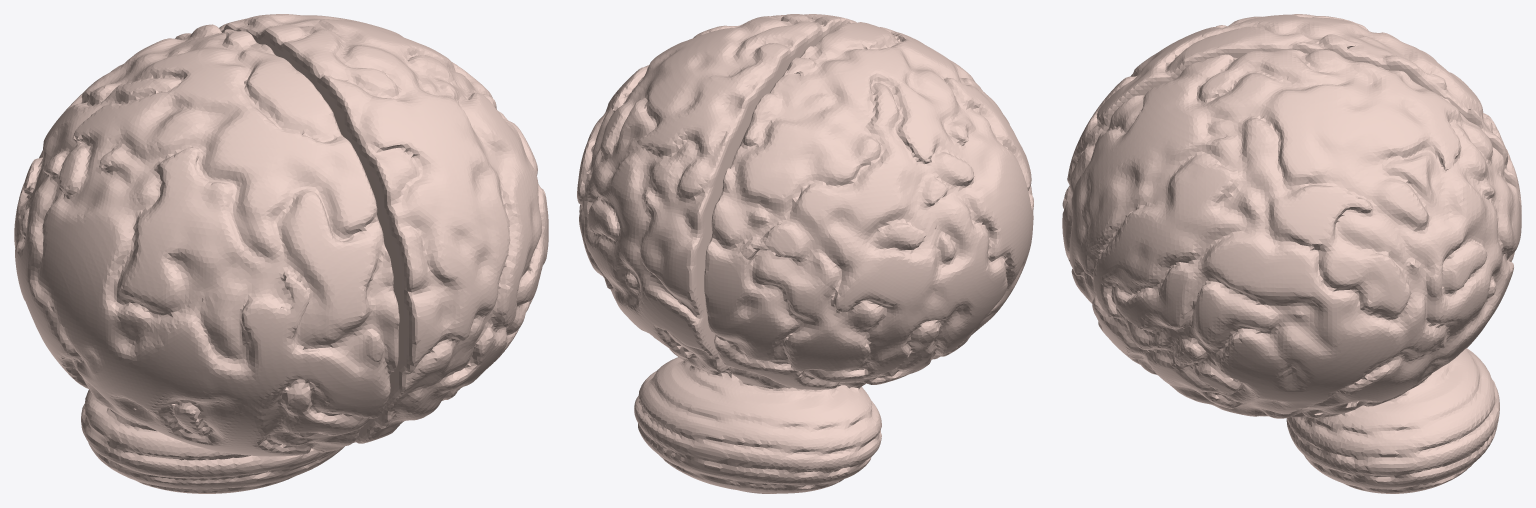
Rendered from organ-brain.glb.
The picture shows the model from 3 angles, left to right: view 1: azimuth 30°, elevation 25°; view 2: azimuth 150°, elevation 25°; view 3: azimuth 270°, elevation 25°; orthographic projection. The views are drawn at different scales.
Visible parts, largest first — view 1: geometry_0; view 2: geometry_0; view 3: geometry_0.
Part boxes in pixels (bbox=[...]): geometry_0: bbox=[14, 14, 548, 493]; geometry_0: bbox=[577, 14, 1033, 493]; geometry_0: bbox=[1062, 14, 1521, 493].
Bounding box in the file's own units: 0.2722 × 0.2622 × 0.2556.
